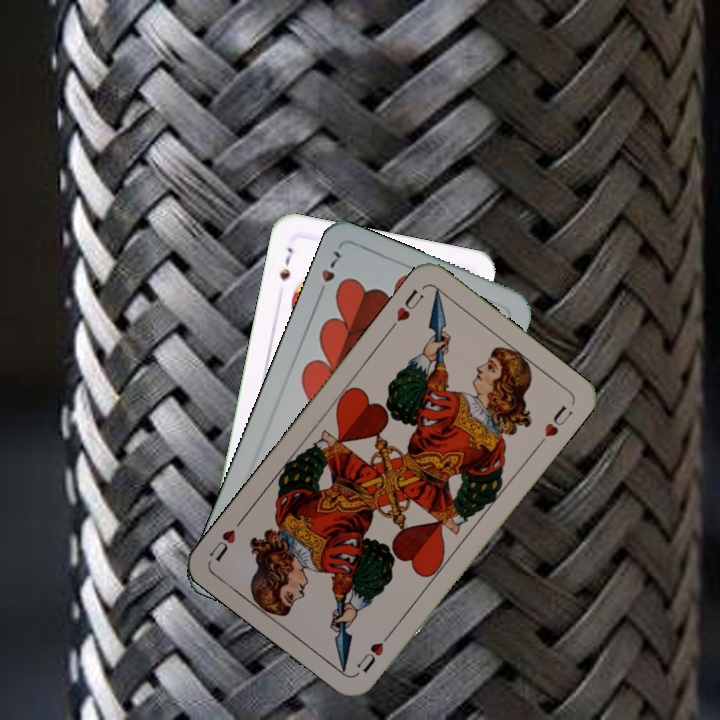H7: (314, 246, 344, 301)
HU: (352, 627, 396, 676), (385, 285, 427, 333)
S7: (275, 243, 296, 283)
